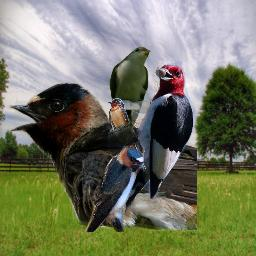Cuckoo: (109, 46, 151, 143)
Swallow: (7, 82, 197, 232), (82, 146, 144, 232), (108, 98, 146, 171)
Woodpecker: (112, 55, 195, 218)
